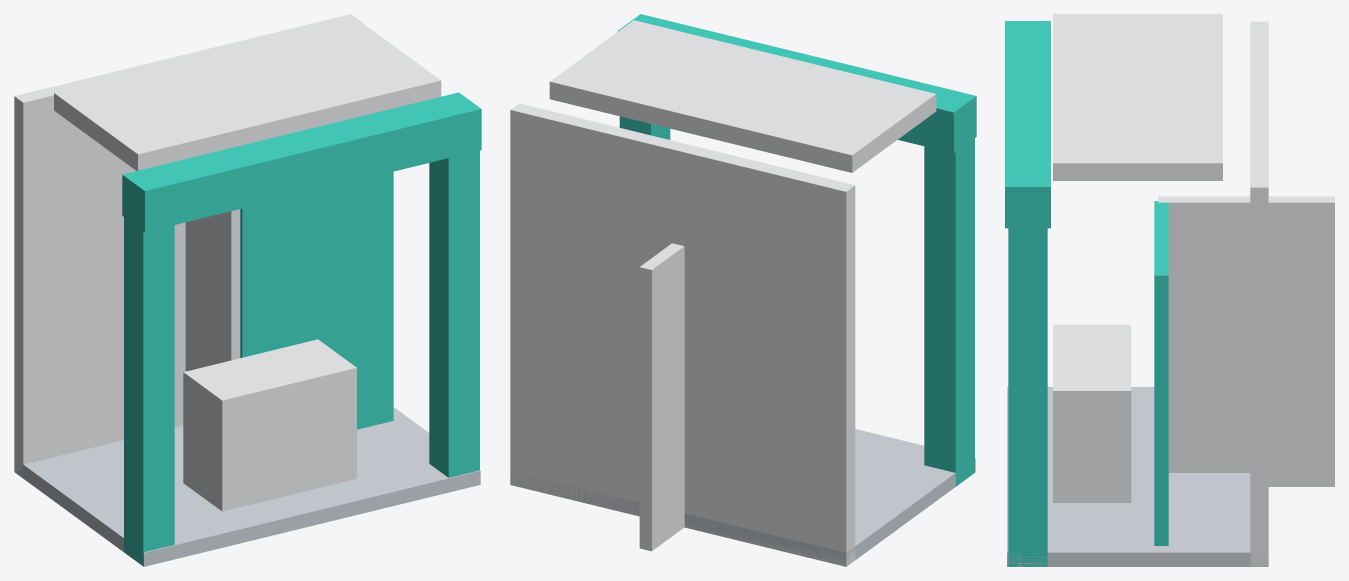
3 renders of one model, left to right at view 1: azimuth 30°, elevation 25°; view 2: azimuth 150°, elevation 25°; view 3: azimuth 270°, elevation 25°, orthographic.
Parts seen in each view (by area): view 1: Exhibition Booth Concept; view 2: Exhibition Booth Concept; view 3: Exhibition Booth Concept.
Part boxes in pixels (<box>): Exhibition Booth Concept: <box>14,14,481,566</box>; Exhibition Booth Concept: <box>510,14,976,566</box>; Exhibition Booth Concept: <box>1005,14,1334,566</box>.
Size of the model in its own units: 3 by 3.34 by 2.52.
